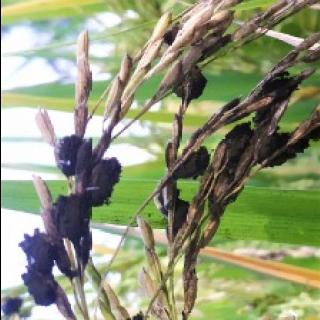Gosong-Palsu: (17, 230, 74, 319), (257, 127, 319, 166), (53, 197, 89, 246), (90, 159, 120, 206), (20, 266, 56, 304), (170, 67, 204, 104), (53, 136, 81, 176), (171, 149, 207, 180), (221, 123, 251, 159), (170, 190, 187, 237)
